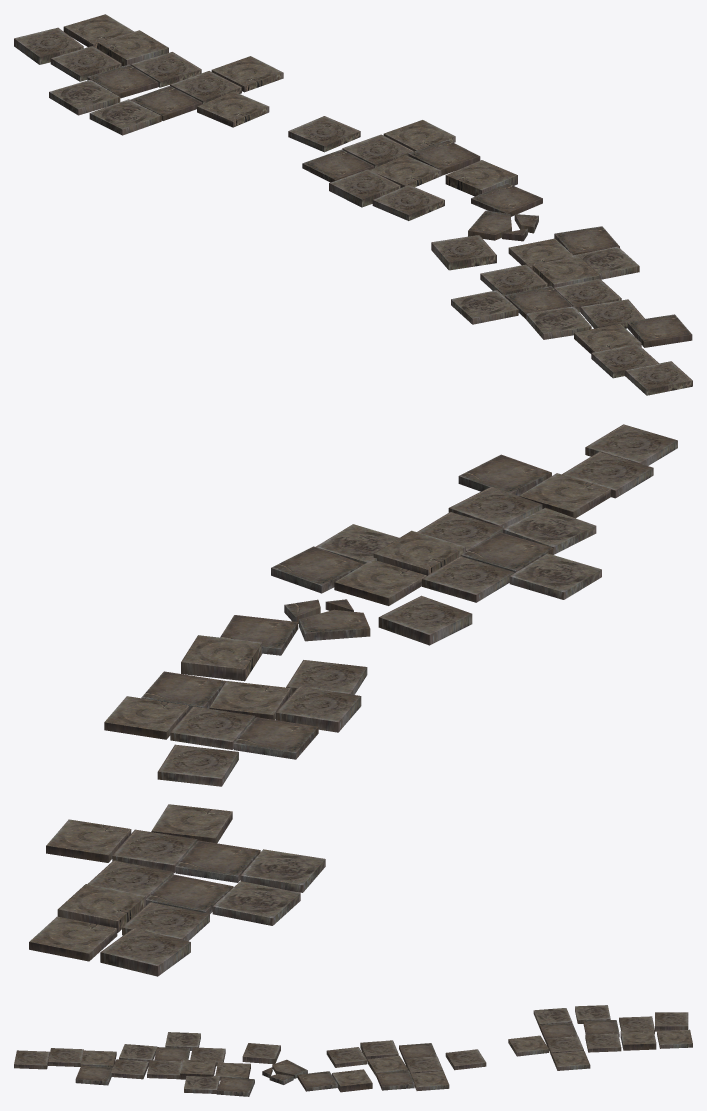
File: dcfx4_zhuankuai.FBX
The picture shows the model from 3 angles, top to bottom: view 1: azimuth 30°, elevation 25°; view 2: azimuth 150°, elevation 25°; view 3: azimuth 270°, elevation 25°; orthographic projection. The views are drawn at different scales.
Parts seen in each view (by area): view 1: dcfx4_zhuankuai; view 2: dcfx4_zhuankuai; view 3: dcfx4_zhuankuai.
Part boxes in pixels (<box>): dcfx4_zhuankuai: <box>14,14,692,395</box>; dcfx4_zhuankuai: <box>29,424,677,976</box>; dcfx4_zhuankuai: <box>14,1005,692,1096</box>.
Bounding box in the file's own units: 1064 × 33.93 × 3471.
